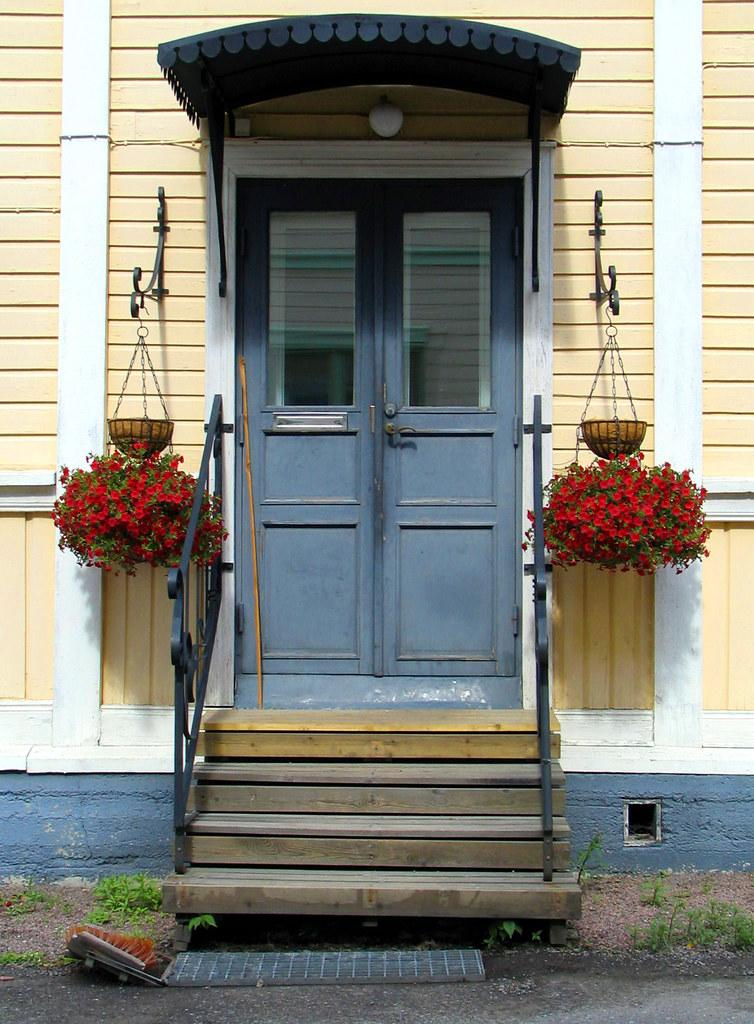door: (236, 174, 525, 695)
